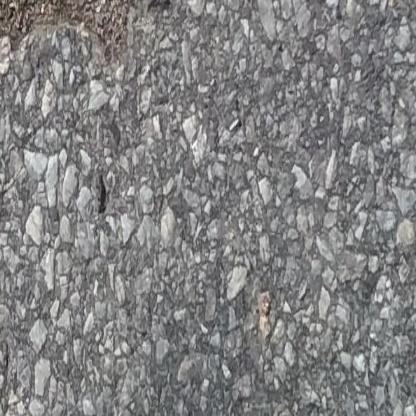Cracks: (0, 0, 140, 60)
